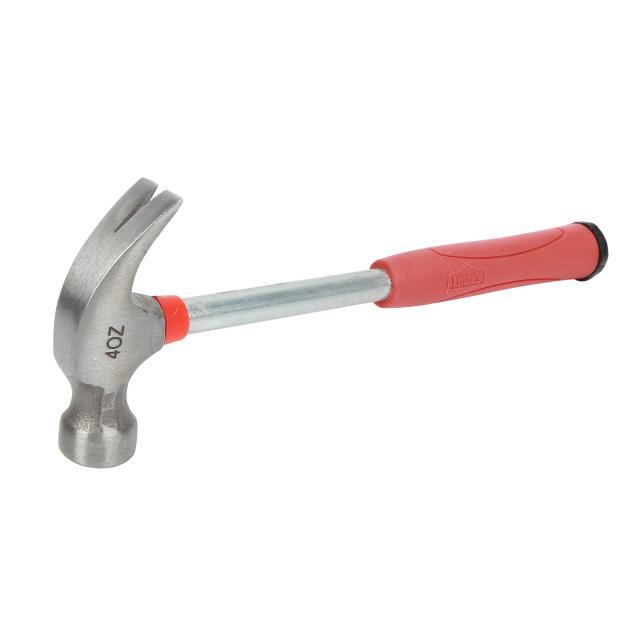hammer: (47, 170, 623, 476)
